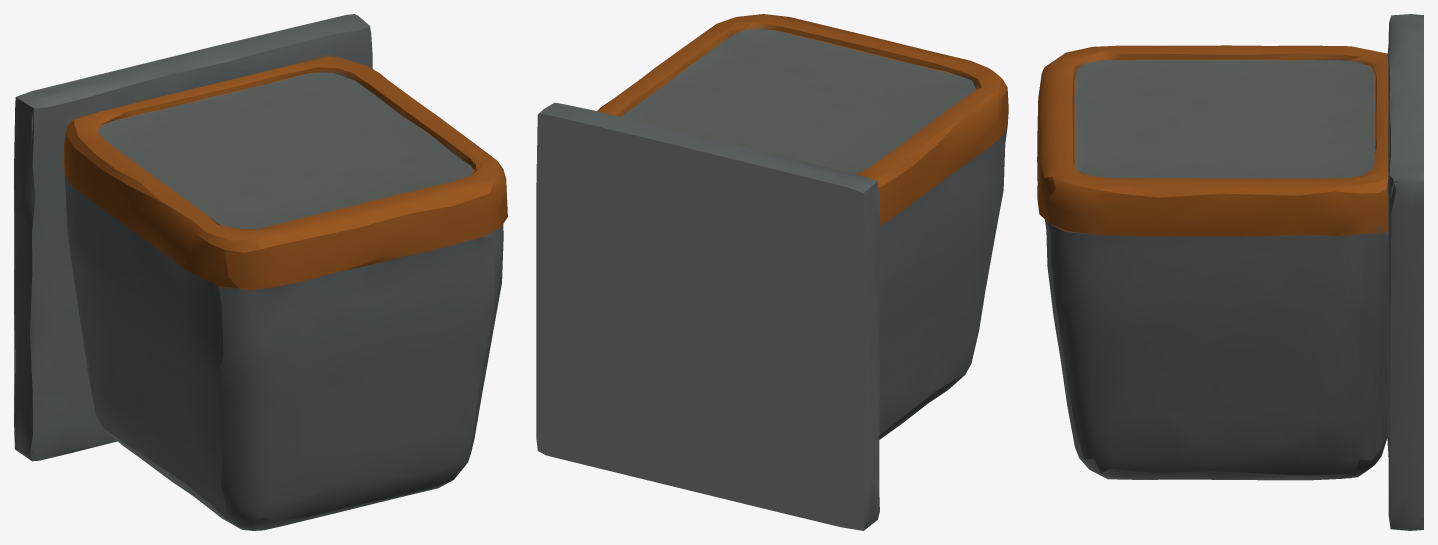
The model's file is ore_container_mk1.glb.
3 renders of one model, left to right at view 1: azimuth 30°, elevation 25°; view 2: azimuth 150°, elevation 25°; view 3: azimuth 270°, elevation 25°, orthographic. The views are drawn at different scales.
Visible parts, largest first — view 1: part; view 2: part; view 3: part.
Boxes of the visible parts, <box> form: part: <box>14,14,507,530</box>; part: <box>536,14,1008,530</box>; part: <box>1037,14,1423,530</box>.
Size of the model in its own units: 1.5 by 1.49 by 1.47.
Materials: 2 (1 with a texture image).
